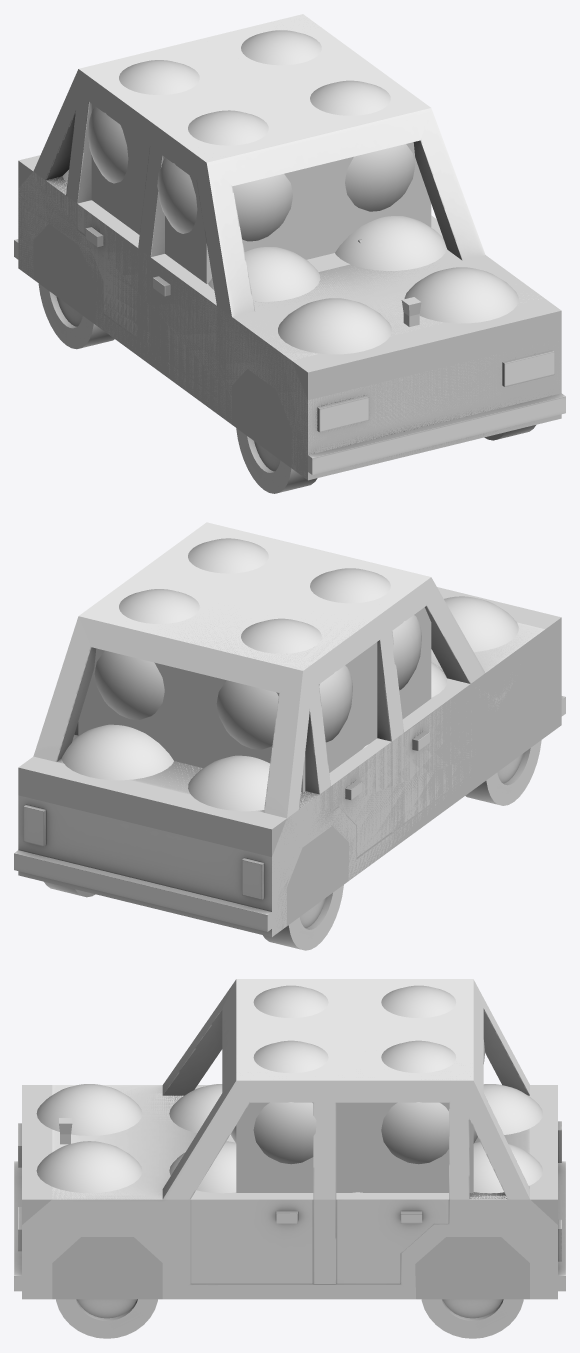
The model's file is car.glb.
3 views of the same model, one above another, from view 1: azimuth 30°, elevation 25°; view 2: azimuth 150°, elevation 25°; view 3: azimuth 270°, elevation 25° (orthographic). The views are drawn at different scales.
Parts seen in each view (by area): view 1: body, Cube.006, Cube.002, Sphere.002, Sphere.001, Sphere.003, Sphere, Sphere.010, Sphere.007, Sphere.011, door_4, door_2 (+3 smaller); view 2: body, Cube.006, Cube.002, Sphere.007, Sphere.004, Sphere.005, door_4, Sphere.002, Sphere.006, door_2, Sphere.003, Sphere.001 (+2 smaller); view 3: body, Cube.006, Cube.002, door_1, door_3, Sphere.004, Sphere.001, Sphere, Sphere.003, Cylinder.001, wheel_fl, Sphere.006 (+5 smaller).
Part boxes in pixels (<box>): body: <box>14,14,565,477</box>; Cube.006: <box>18,155,561,480</box>; Cube.002: <box>91,25,431,283</box>; Sphere.002: <box>157,110,292,241</box>; Sphere.001: <box>310,80,414,211</box>; Sphere.003: <box>278,298,391,399</box>; Sphere: <box>404,267,518,368</box>; Sphere.010: <box>335,216,446,270</box>; Sphere.007: <box>88,60,199,183</box>; Sphere.011: <box>208,247,320,301</box>; door_4: <box>77,204,138,337</box>; door_2: <box>152,269,216,396</box>; body: <box>14,522,565,937</box>; Cube.006: <box>18,587,561,930</box>; Cube.002: <box>78,607,431,792</box>; Sphere.007: <box>216,618,352,749</box>; Sphere.004: <box>94,589,199,719</box>; Sphere.005: <box>61,724,173,780</box>; door_4: <box>331,742,391,857</box>; Sphere.002: <box>310,568,421,690</box>; Sphere.006: <box>188,755,269,811</box>; door_2: <box>404,699,470,823</box>; Sphere.003: <box>444,596,518,651</box>; Sphere.001: <box>188,538,268,573</box>; body: <box>14,979,565,1299</box>; Cube.006: <box>22,1085,557,1299</box>; Cube.002: <box>236,1065,473,1192</box>; door_1: <box>190,1199,313,1283</box>; door_3: <box>336,1199,448,1283</box>; Sphere.004: <box>381,1040,477,1164</box>; Sphere.001: <box>230,1040,328,1164</box>; Sphere: <box>36,1141,142,1193</box>; Sphere.003: <box>36,1084,142,1135</box>; Cylinder.001: <box>421,1299,523,1338</box>; wheel_fl: <box>56,1299,157,1338</box>; Sphere.006: <box>483,1084,542,1134</box>.
Bounding box in the file's own units: 1.28 × 1.31 × 2.49.
2 materials, 2 textured.
